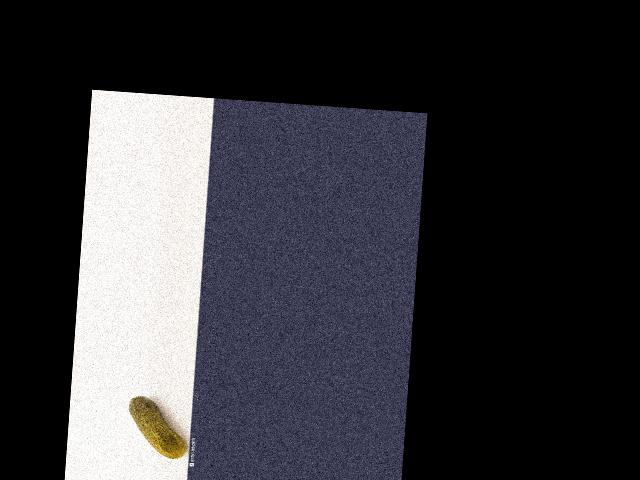cucumber: (126, 394, 189, 459)
